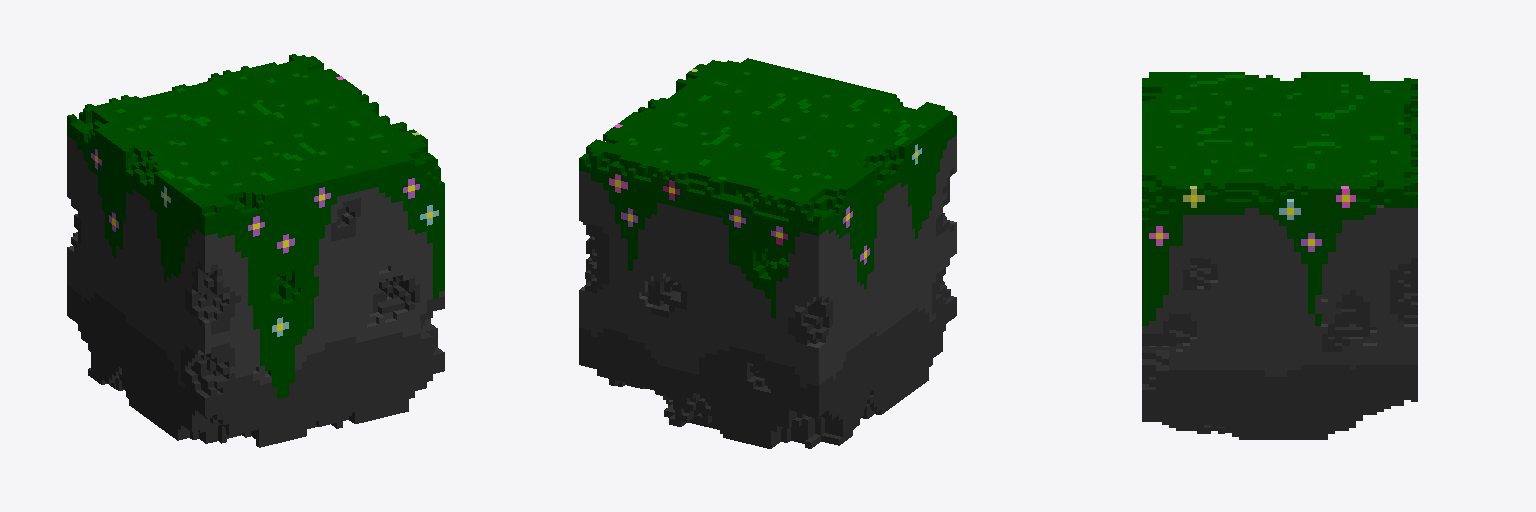
The picture shows the model from 3 angles: view 1: azimuth 30°, elevation 25°; view 2: azimuth 150°, elevation 25°; view 3: azimuth 270°, elevation 25°; orthographic projection.
Visible parts, largest first — view 1: cube_cube.001; view 2: cube_cube.001; view 3: cube_cube.001.
Part boxes in pixels (x1,y1,x2,y2): cube_cube.001: (67, 54, 444, 447); cube_cube.001: (579, 58, 956, 448); cube_cube.001: (1142, 72, 1417, 439).
Size of the model in its own units: 4 by 4 by 4.
Materials: 1 (1 with a texture image).